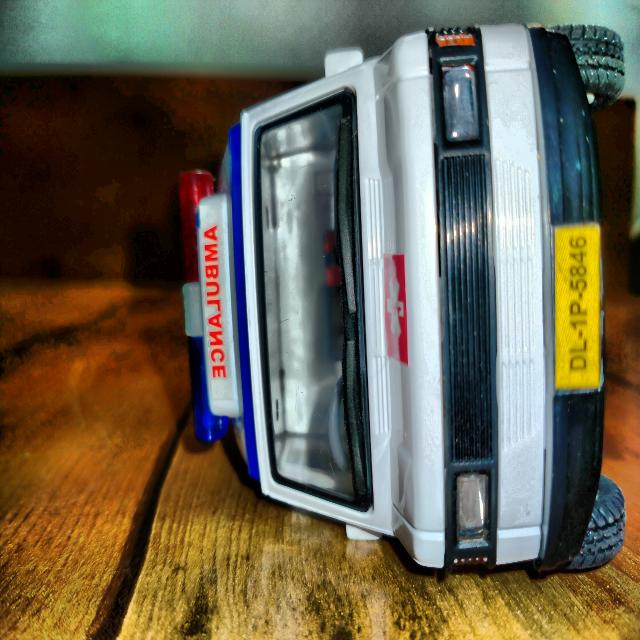Ambulance: (189, 26, 626, 573)
